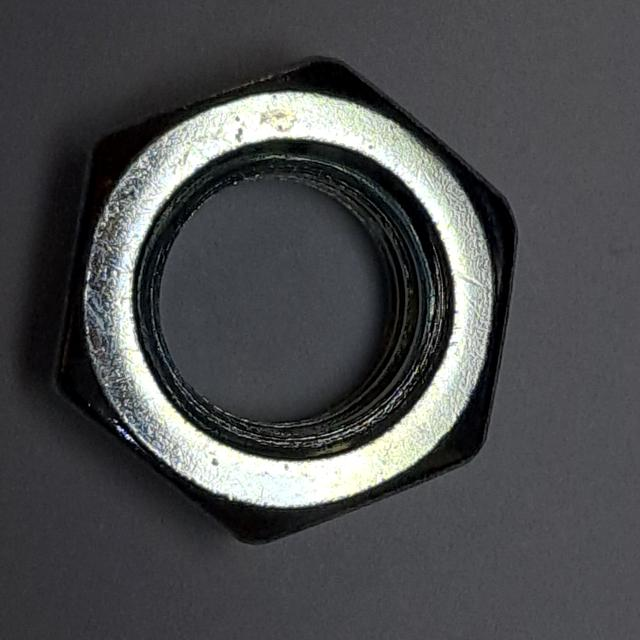Excellent: (34, 36, 533, 567)
